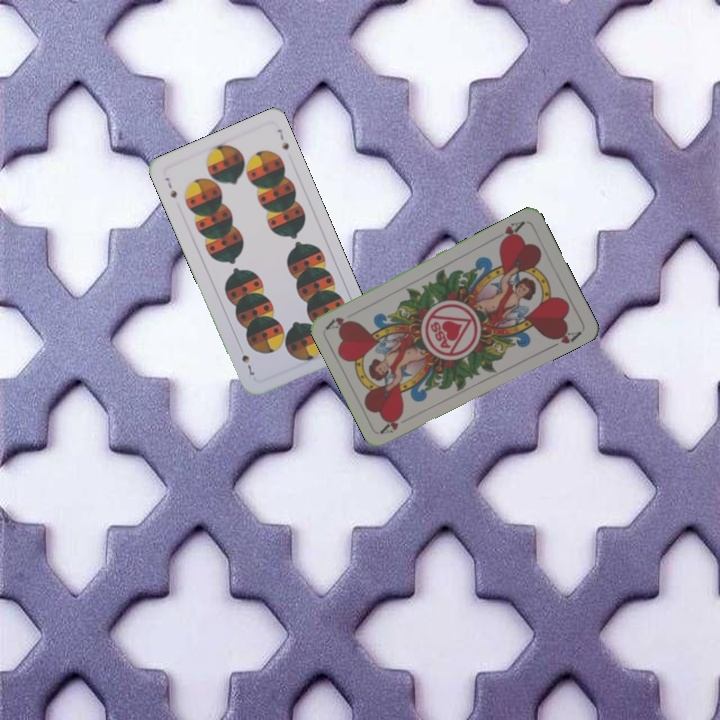HA: (490, 217, 528, 246), (377, 410, 406, 437)
S7: (161, 173, 180, 201)
